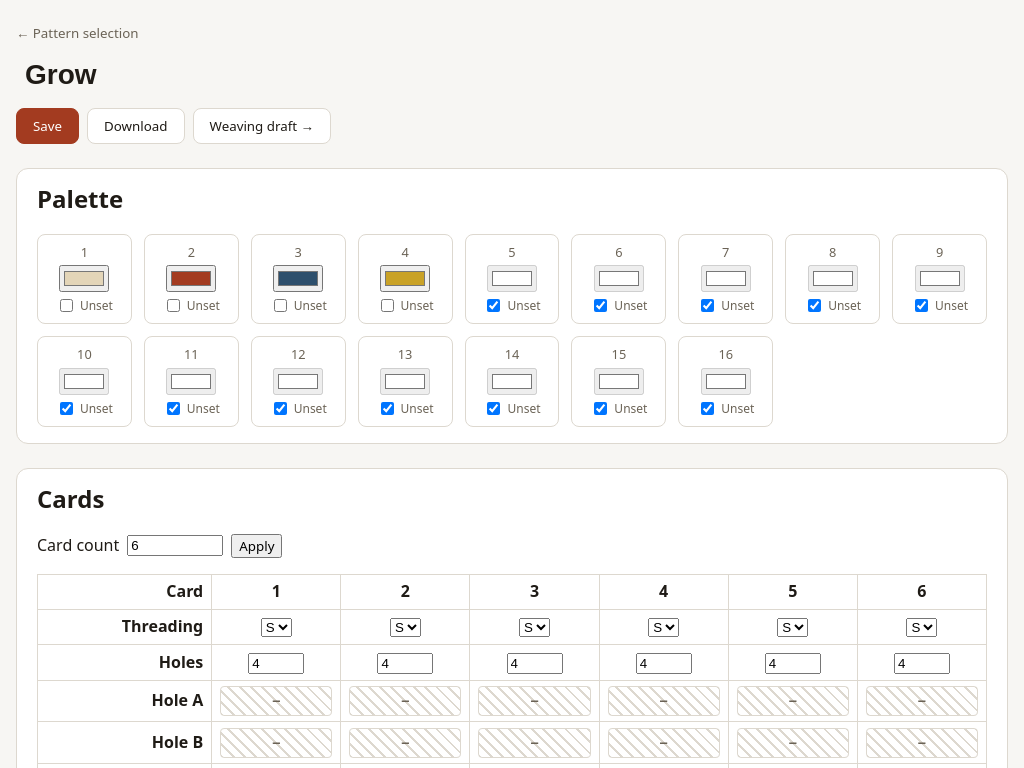
EditPatternPage › increasing card count does not prompt a confirmation dialog
Expected: the field showing "Grow" is shown, [16, 54, 1008, 96]
Replace the text in the number field labelled "Card count" with "7" at (175, 546), box [127, 535, 223, 556]
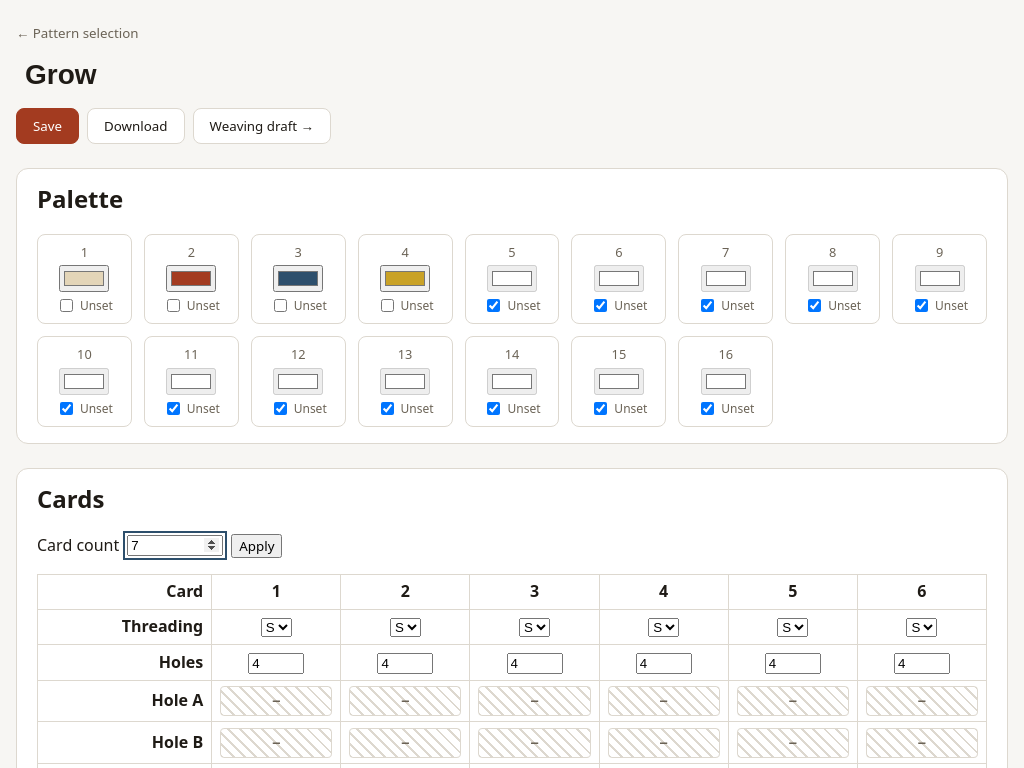
Click the button "Apply" at (257, 546), box [231, 534, 282, 558]
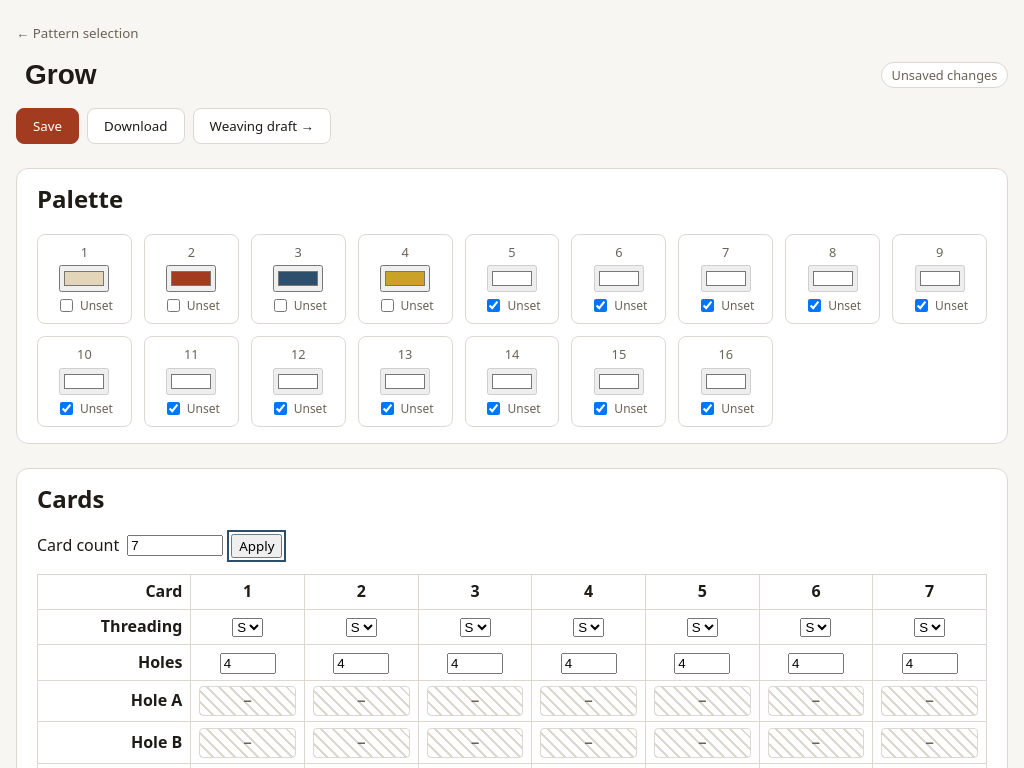
Expected: the column heading "7" is shown, [873, 574, 986, 609]
